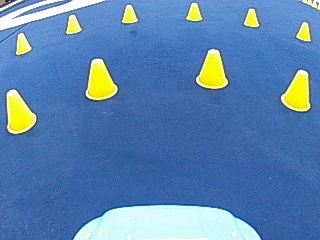cone: (84, 56, 118, 99), (4, 87, 36, 132), (280, 67, 311, 111), (195, 47, 228, 88), (15, 32, 31, 54), (185, 1, 202, 21), (242, 7, 259, 27), (121, 3, 138, 23), (65, 14, 82, 34), (295, 20, 311, 41)
